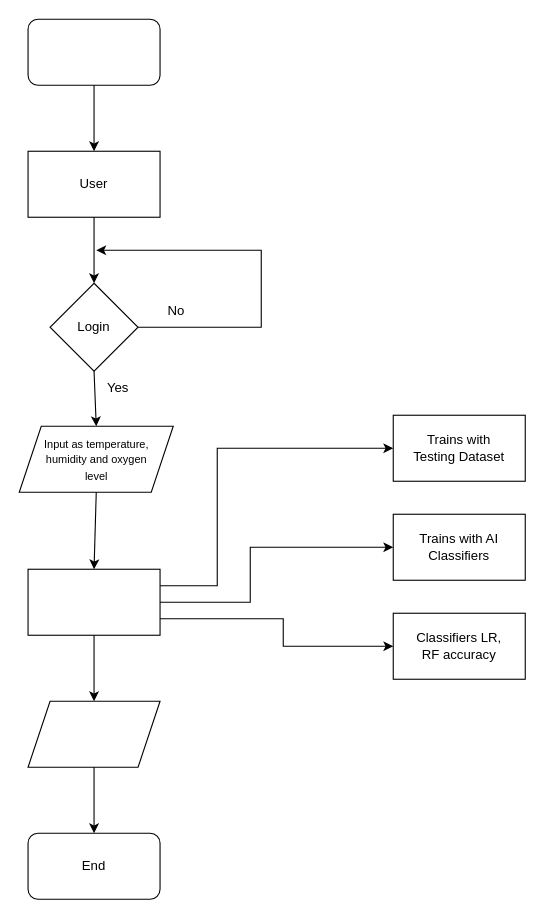
Some shapes in this 545 by 919 pixel diagram are drawn without their labels. Each missing label, with the box of its shape:
AI Data Process: (27, 568, 160, 635)
Output: (27, 700, 160, 767)
Start: (27, 18, 160, 85)
